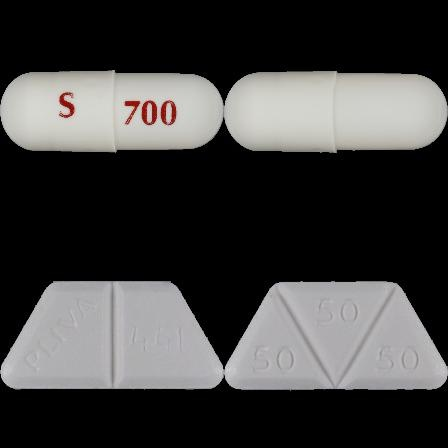68151-2649: (0, 0, 224, 224)
